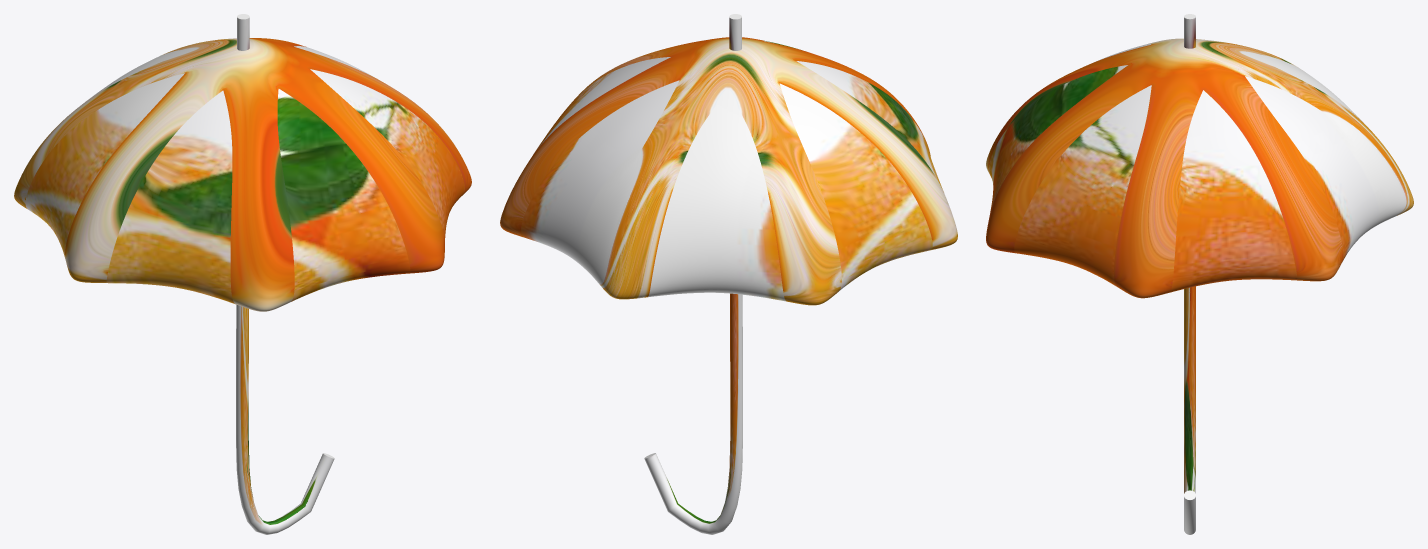
File: umbrella.FBX
3 renders of one model, left to right at view 1: azimuth 30°, elevation 25°; view 2: azimuth 150°, elevation 25°; view 3: azimuth 270°, elevation 25°, orthographic. The views are drawn at different scales.
Parts seen in each view (by area): view 1: Sphere001, Line001; view 2: Sphere001, Line001; view 3: Sphere001, Line001.
Boxes of the visible parts, x1,y1,x2,y2 form: Sphere001: (14,38,471,311); Line001: (236,14,334,534); Sphere001: (500,37,957,305); Line001: (644,14,742,534); Sphere001: (986,38,1413,298); Line001: (1184,14,1195,534).
Size of the model in its own units: 73.53 by 92.6 by 71.85.
Materials: 1 (1 with a texture image).
